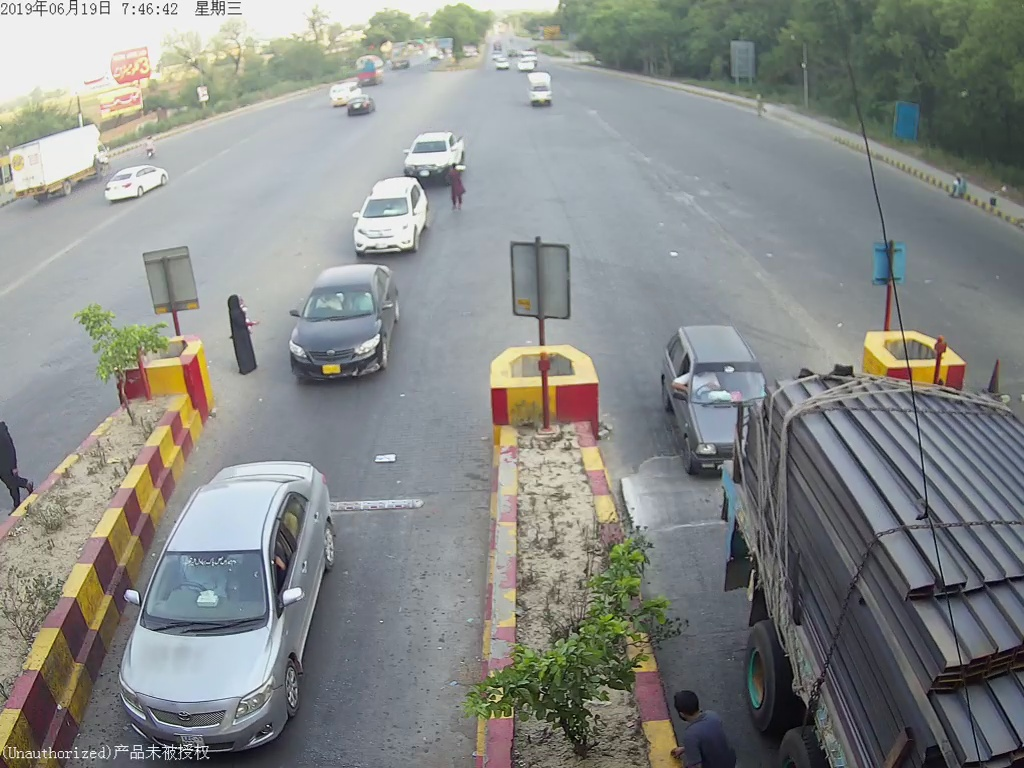Cat-1: (117, 473, 351, 736), (278, 266, 409, 386), (655, 324, 743, 490), (346, 178, 429, 258), (400, 127, 453, 176)
